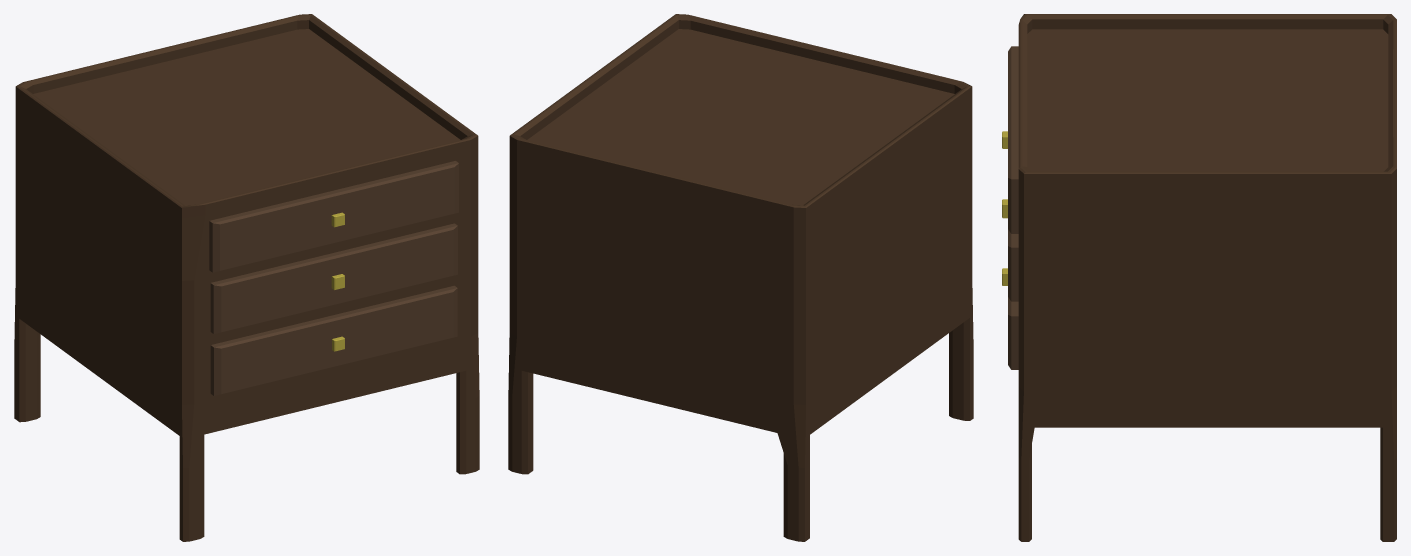
The model's file is Cabinet.fbx.
3 views of the same model, side by side, from view 1: azimuth 30°, elevation 25°; view 2: azimuth 150°, elevation 25°; view 3: azimuth 270°, elevation 25° (orthographic). The views are drawn at different scales.
Parts seen in each view (by area): view 1: Cabinet; view 2: Cabinet; view 3: Cabinet.
Boxes of the visible parts, bbox=[...] form: Cabinet: bbox=[14, 14, 479, 541]; Cabinet: bbox=[508, 14, 973, 541]; Cabinet: bbox=[1002, 14, 1396, 541].
Bounding box in the file's own units: 284 × 305 × 296.
